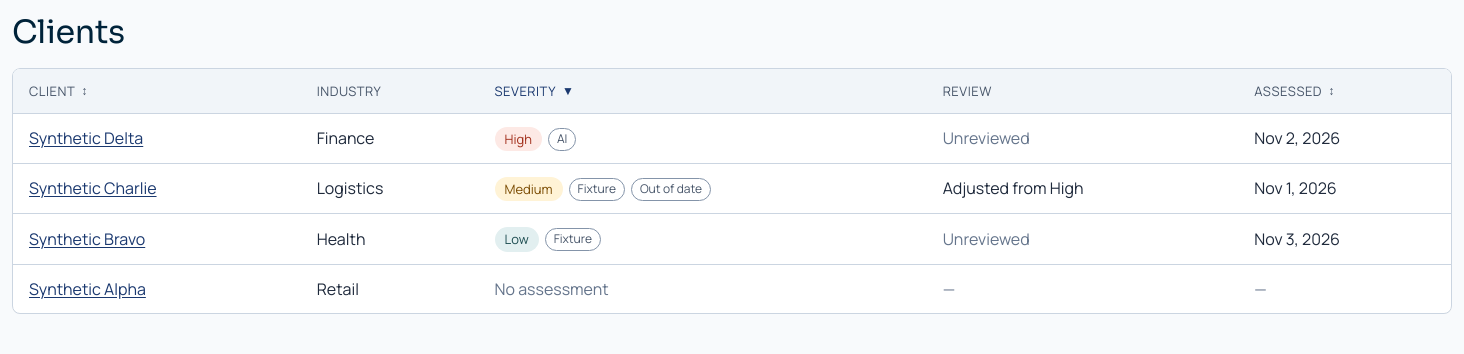
Test: client list › re-sorts from the headers and records the sort in the URL
Step 1. Click the button "Assessed ↕" → click(1345, 91), box [1238,69,1451,113]
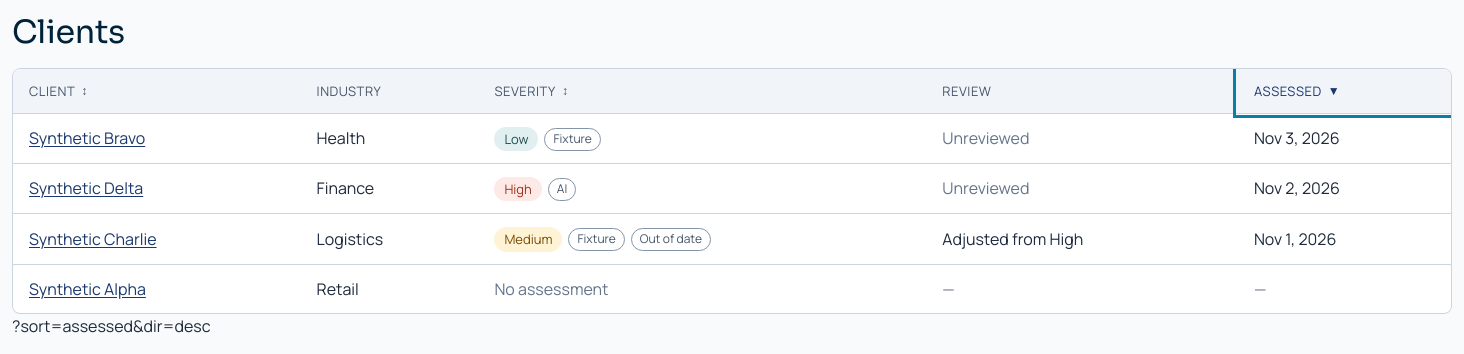
Expected: the text with test id "search" reads "?sort=assessed&dir=desc", [12,315,211,337]
Step 2. Click the button "Assessed ▼" → click(1344, 91), box [1238,69,1451,113]
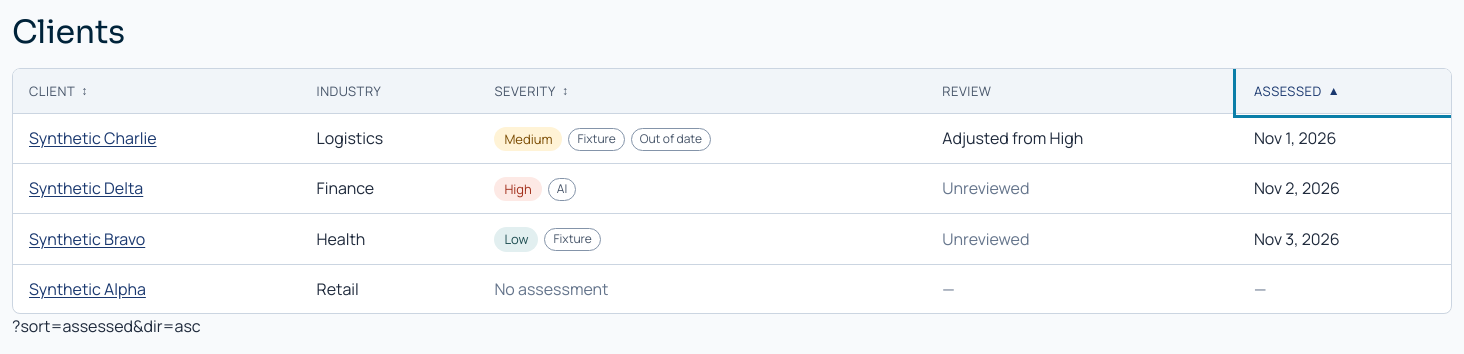
Expected: the text with test id "search" reads "?sort=assessed&dir=asc", [12,315,201,337]
